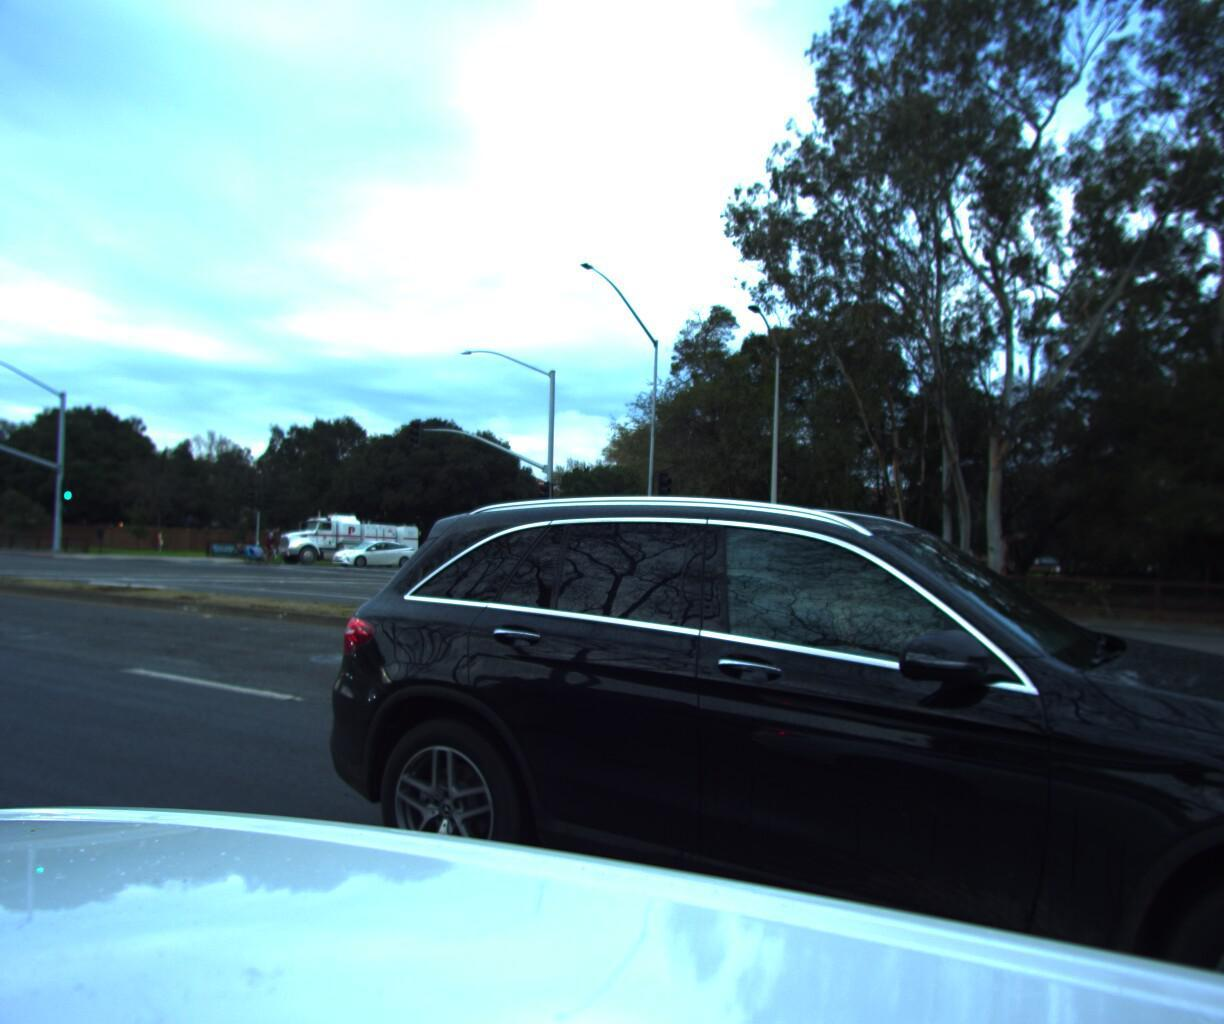bicycle: (254, 527, 289, 562)
car: (277, 438, 1224, 1024), (321, 530, 419, 562)
other_vehicle: (237, 533, 268, 557)
truck: (265, 500, 445, 566)
